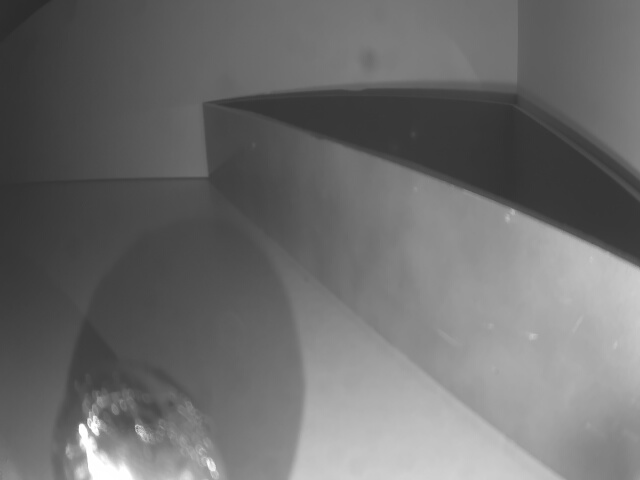Green: (200, 102, 640, 480)
Live: (47, 367, 224, 480)
